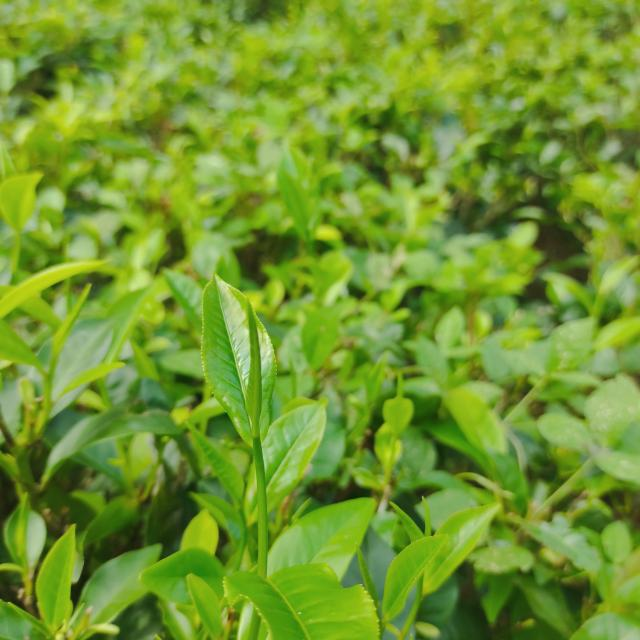unopened_leaf: (36, 278, 101, 380), (239, 292, 273, 447), (10, 487, 36, 568), (416, 490, 444, 543)
